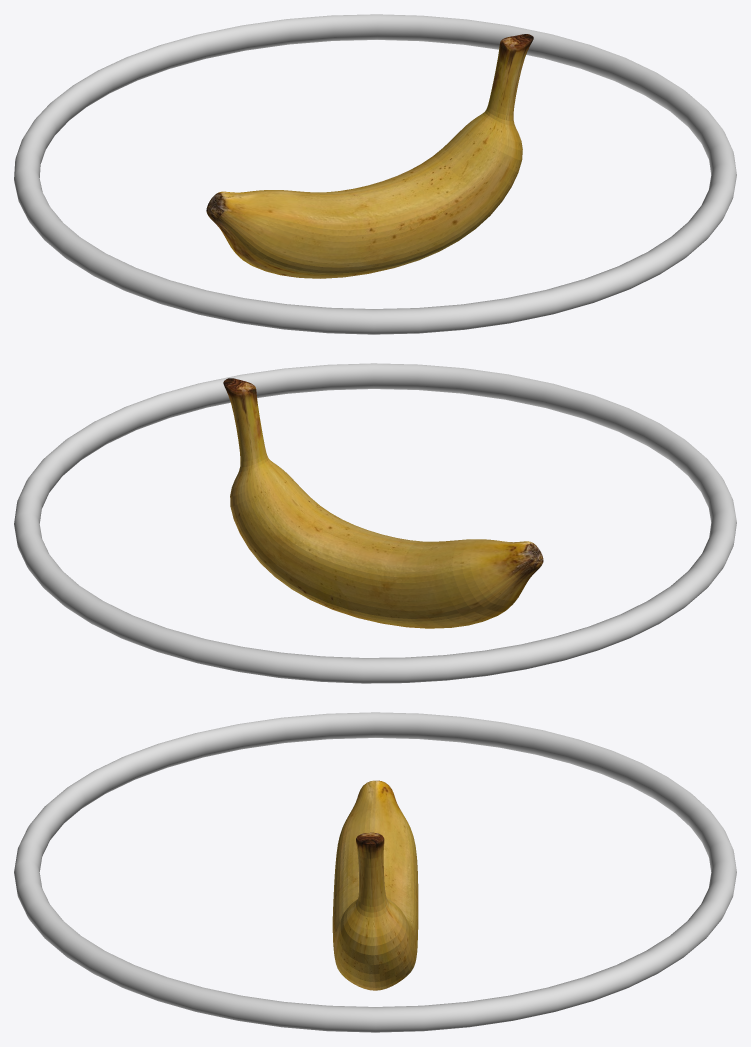
Rendered from platanus.glb.
3 views of the same model, one above another, from view 1: azimuth 30°, elevation 25°; view 2: azimuth 150°, elevation 25°; view 3: azimuth 270°, elevation 25° (orthographic).
Visible parts, largest first — view 1: Path, Banana; view 2: Path, Banana; view 3: Path, Banana.
Part boxes in pixels (x1,y1,x2,y2): Path: [14, 14, 736, 334]; Banana: [206, 34, 533, 278]; Path: [14, 363, 736, 683]; Banana: [223, 378, 543, 628]; Path: [14, 712, 736, 1032]; Banana: [332, 780, 418, 990].
Size of the model in its own units: 8.45 by 2.57 by 8.45.
Materials: 2 (1 with a texture image).
